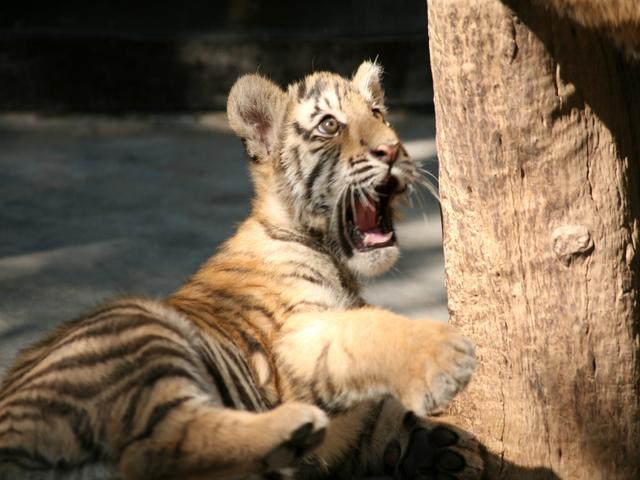tiger: (56, 38, 426, 480)
